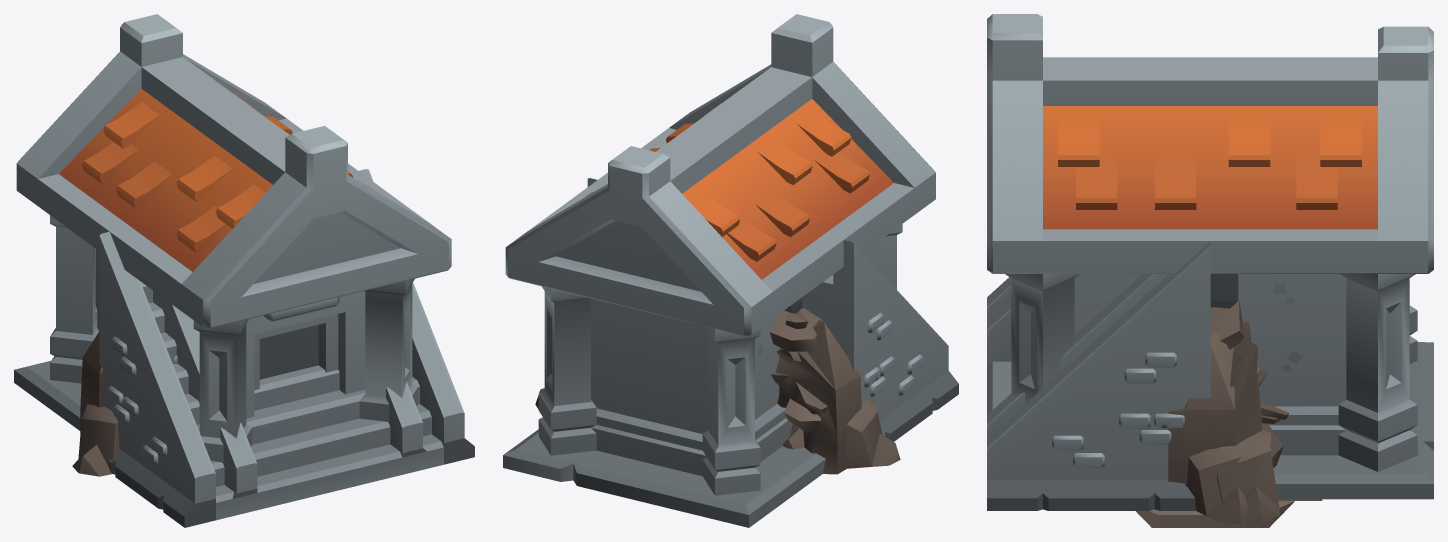
The model's file is props.glb.
3 renders of one model, left to right at view 1: azimuth 30°, elevation 25°; view 2: azimuth 150°, elevation 25°; view 3: azimuth 270°, elevation 25°, orthographic. The views are drawn at different scales.
Parts seen in each view (by area): view 1: crypt, stairs_wide, stairs, rubble_large; view 2: crypt, stairs_wide, rubble_large; view 3: crypt, stairs_wide, rubble_half, rubble_large, stairs, floor_dirt_grave, wall_crossing.
Boxes of the visible parts, x1=… form: crypt: x1=14, y1=14, x2=451, y2=462; stairs_wide: x1=99, y1=169, x2=474, y2=527; stairs: x1=153, y1=291, x2=426, y2=498; rubble_large: x1=72, y1=331, x2=119, y2=476; crypt: x1=503, y1=14, x2=935, y2=527; stairs_wide: x1=587, y1=178, x2=958, y2=441; rubble_large: x1=770, y1=308, x2=900, y2=474; crypt: x1=987, y1=14, x2=1433, y2=499; stairs_wide: x1=987, y1=241, x2=1210, y2=510; rubble_half: x1=1184, y1=300, x2=1288, y2=522; rubble_large: x1=1168, y1=351, x2=1279, y2=524; stairs: x1=987, y1=274, x2=1168, y2=438; floor_dirt_grave: x1=1136, y1=499, x2=1322, y2=527; wall_crossing: x1=1210, y1=274, x2=1238, y2=308.
Size of the model in its own units: 8.13 by 9.5 by 8.
4 materials, 4 textured.
